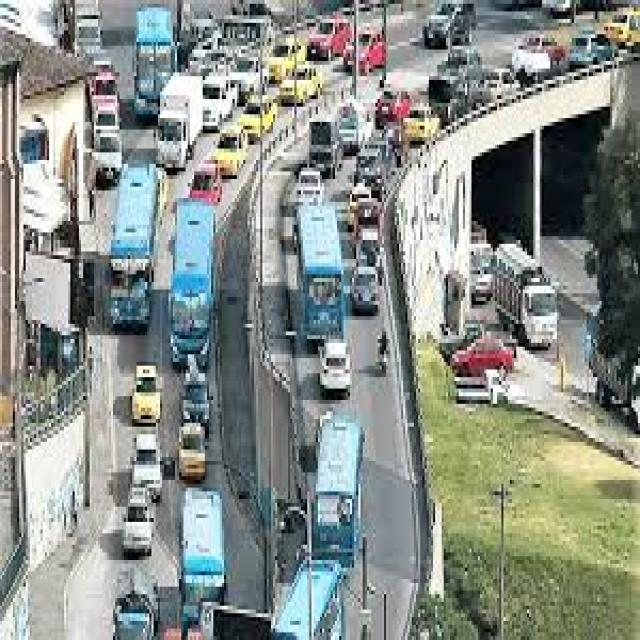BUS: (315, 410, 363, 578), (170, 197, 215, 372), (113, 166, 154, 330), (180, 482, 224, 618), (296, 206, 340, 329), (136, 7, 171, 119)
SED: (132, 355, 160, 429)
TRUCK: (493, 246, 556, 352), (159, 81, 201, 172)
